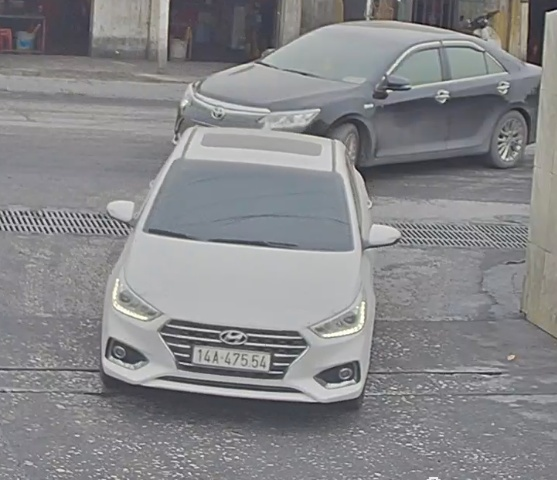vehicle plate: (189, 339, 276, 375)
